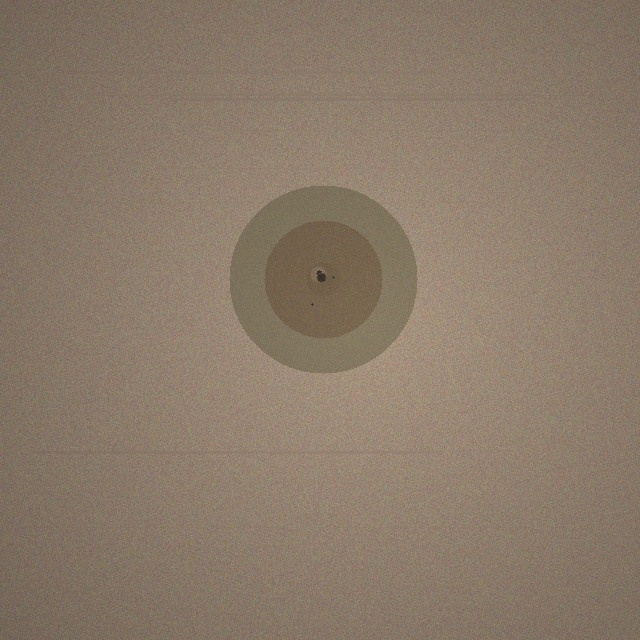shrinkage: (229, 185, 417, 373)
